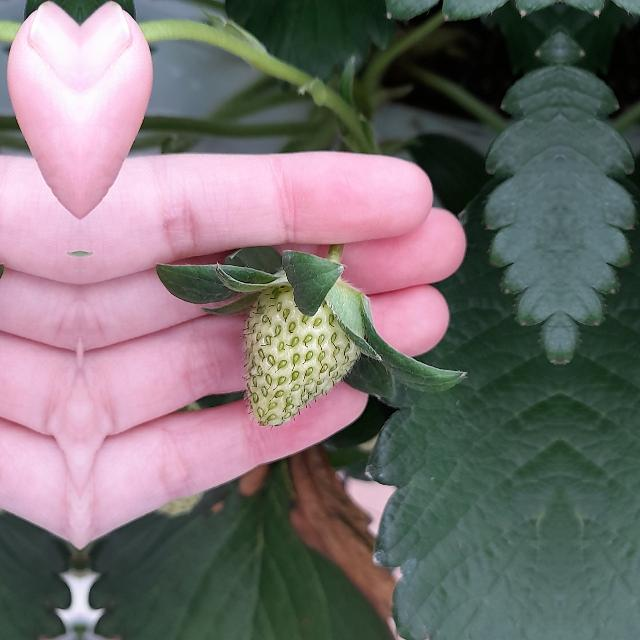Health_25: (244, 284, 360, 426)
